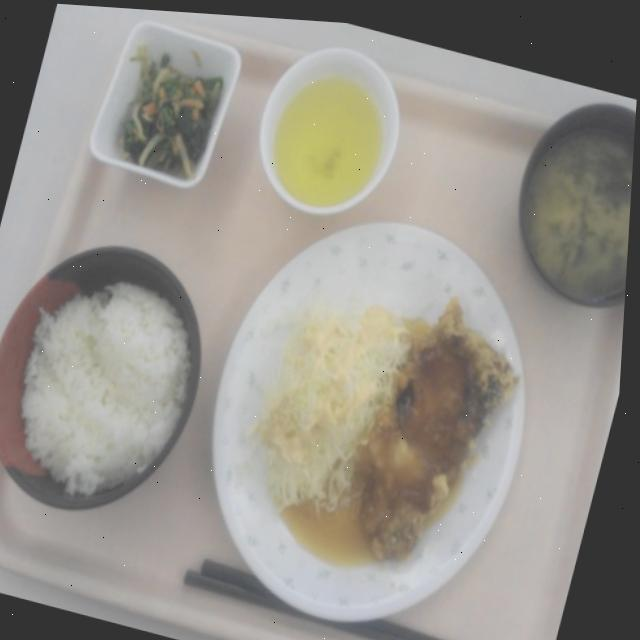汤锅炖物: (489, 71, 638, 326)
米饭主食: (0, 209, 243, 543)
蔬菜料理: (246, 255, 433, 523)
鸡肉料理 含炸鸡: (332, 256, 547, 589)
